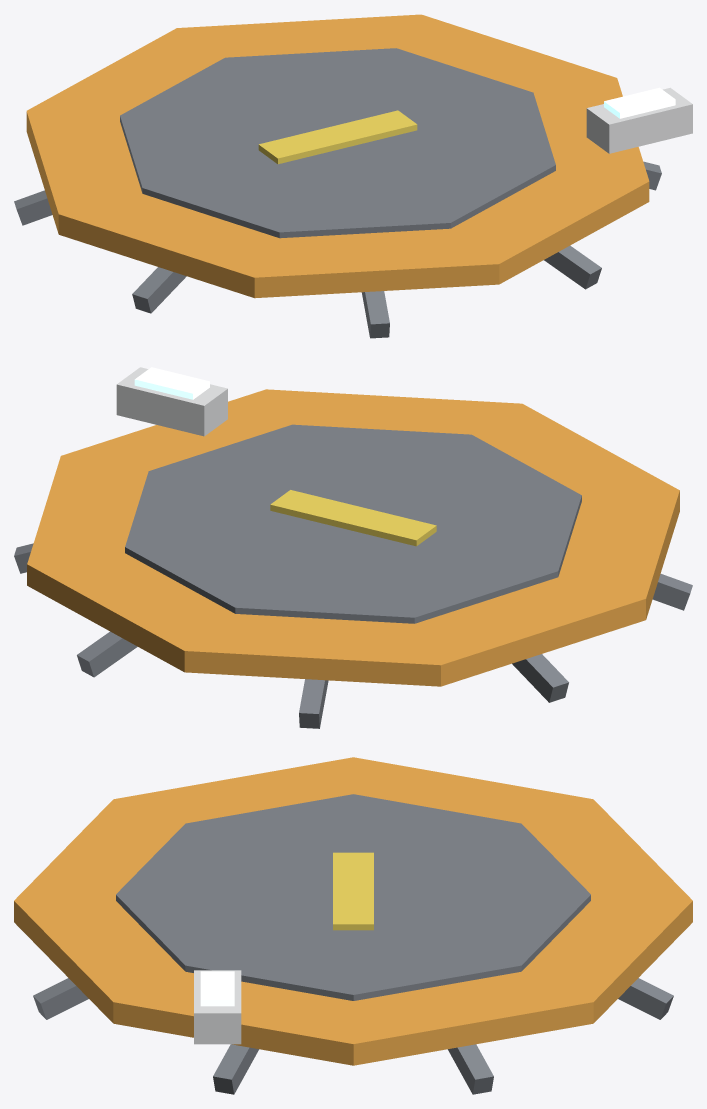
Rendered from landing-pad-folding.glb.
3 renders of one model, top to bottom at view 1: azimuth 30°, elevation 25°; view 2: azimuth 150°, elevation 25°; view 3: azimuth 270°, elevation 25°, orthographic. The views are drawn at different scales.
Parts seen in each view (by area): view 1: landing-pad-folding; view 2: landing-pad-folding; view 3: landing-pad-folding.
Part boxes in pixels (x1,y1,x2,y2): landing-pad-folding: [14, 14, 692, 338]; landing-pad-folding: [14, 367, 692, 728]; landing-pad-folding: [14, 757, 692, 1094].
Bounding box in the file's own units: 2 × 0.3185 × 2.
